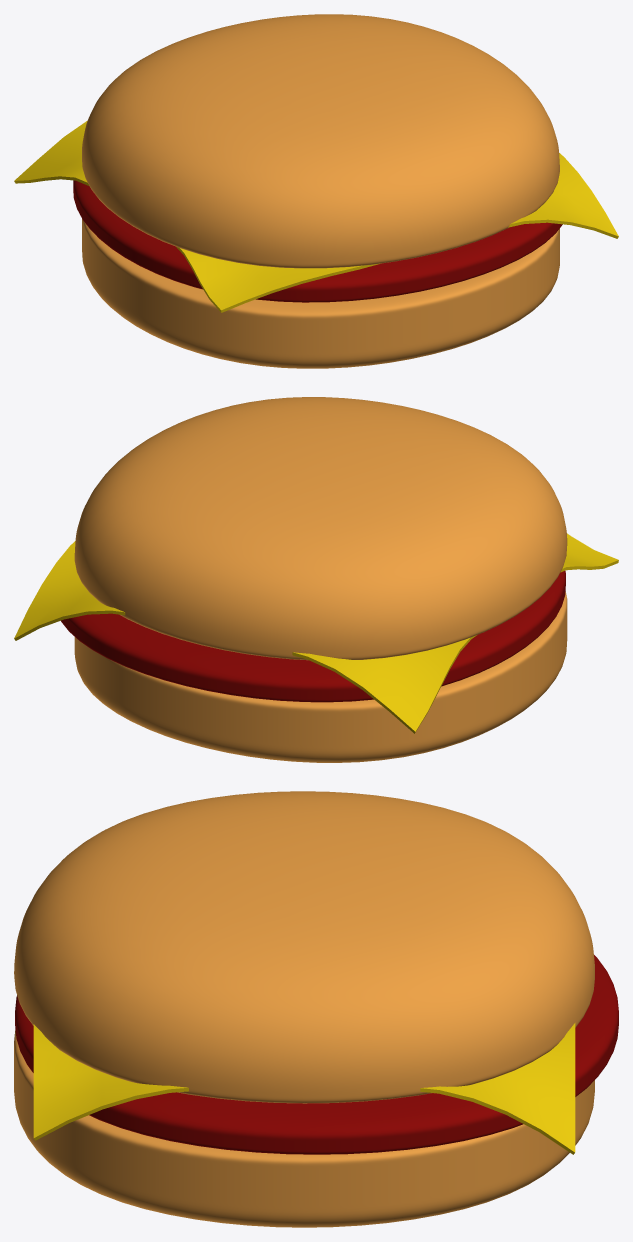
Rendered from hamburger.glb.
The picture shows the model from 3 angles, top to bottom: view 1: azimuth 30°, elevation 25°; view 2: azimuth 150°, elevation 25°; view 3: azimuth 270°, elevation 25°; orthographic projection. The views are drawn at different scales.
Parts seen in each view (by area): view 1: Cube.002, Cube, Cube.001, Plane; view 2: Cube.002, Cube, Cube.001, Plane; view 3: Cube.002, Cube, Cube.001, Plane.
Boxes of the visible parts, x1,y1,x2,y2 form: Cube.002: (82,14,559,268); Cube: (82,219,559,368); Cube.001: (73,180,562,302); Plane: (14,120,618,312); Cube.002: (74,397,567,660); Cube: (74,592,567,762); Cube.001: (61,571,565,702); Plane: (14,533,618,733); Cube.002: (14,791,594,1103); Cube: (14,1029,594,1227); Cube.001: (15,955,618,1154); Plane: (33,1023,575,1154).
Size of the model in its own units: 11.84 by 5.81 by 11.86.
